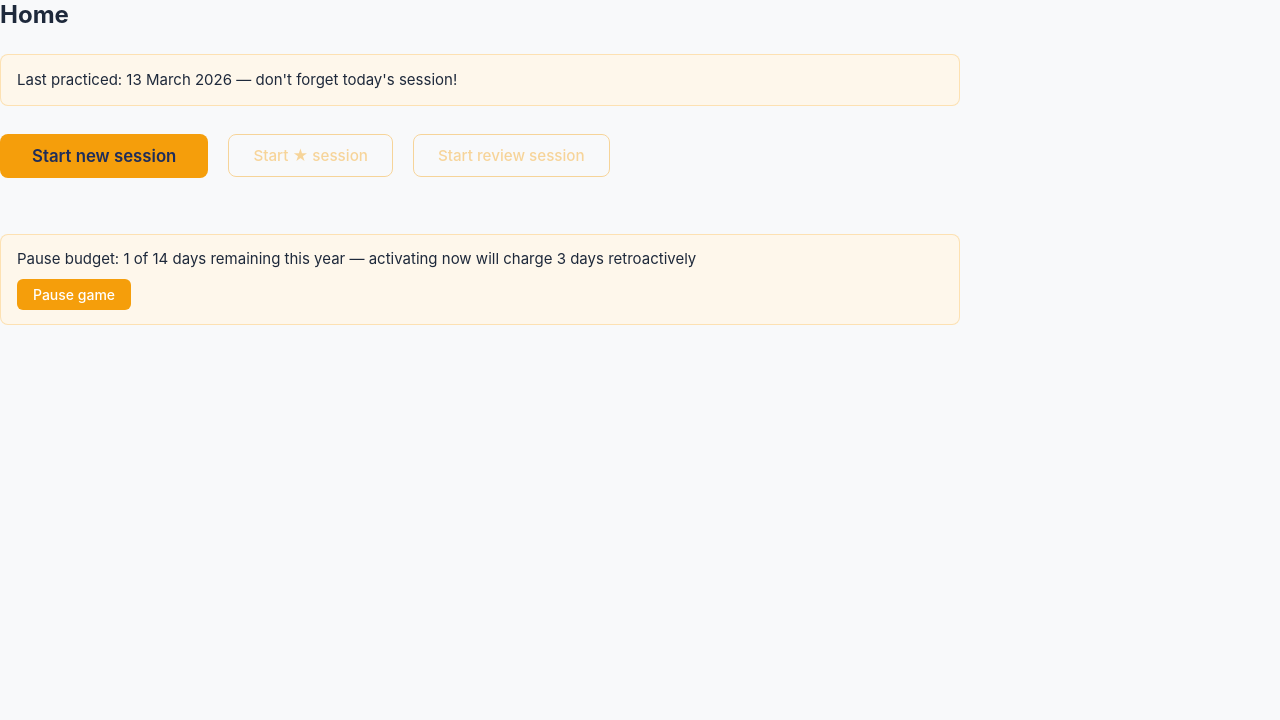
Test: HomeScreen — pause mode › shows Fall B warning in dialog when budget is insufficient
Click the button "Pause game": (74, 294) [17,279,131,310]
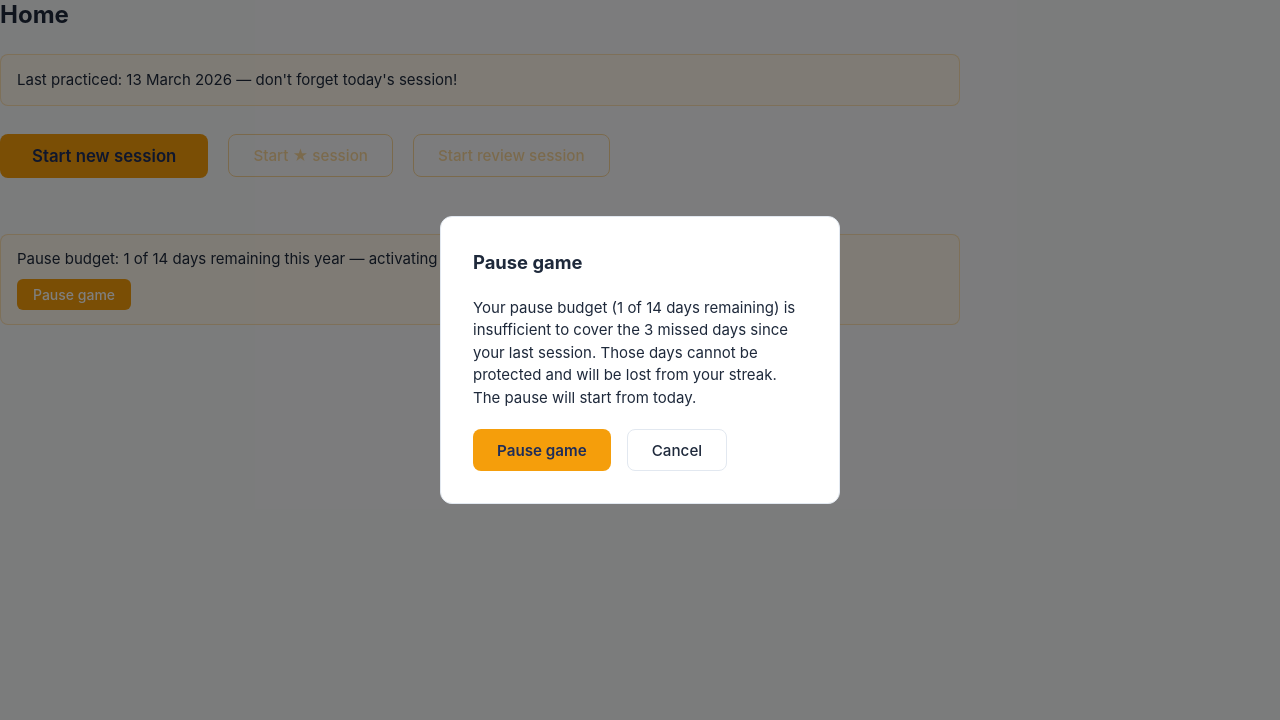
Now the text "will be lost from your streak" is shown, box [473,343,777,407]
